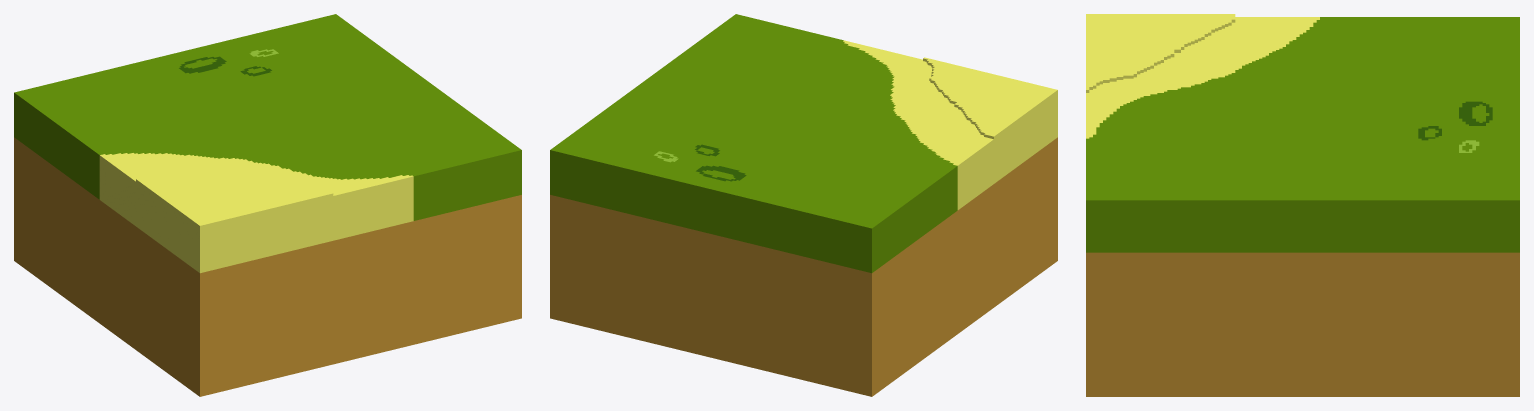
3 views of the same model, side by side, from view 1: azimuth 30°, elevation 25°; view 2: azimuth 150°, elevation 25°; view 3: azimuth 270°, elevation 25° (orthographic). The views are drawn at different scales.
Parts seen in each view (by area): view 1: 1K; view 2: 1K; view 3: 1K.
Boxes of the visible parts, x1,y1,x2,y2 form: 1K: (14, 14, 521, 396); 1K: (550, 14, 1057, 396); 1K: (1086, 14, 1519, 396).
Bounding box in the file's own units: 12.8 × 6.5 × 12.8.
1 material, 1 textured.
